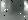person: (3, 1, 11, 13), (23, 1, 28, 16)
